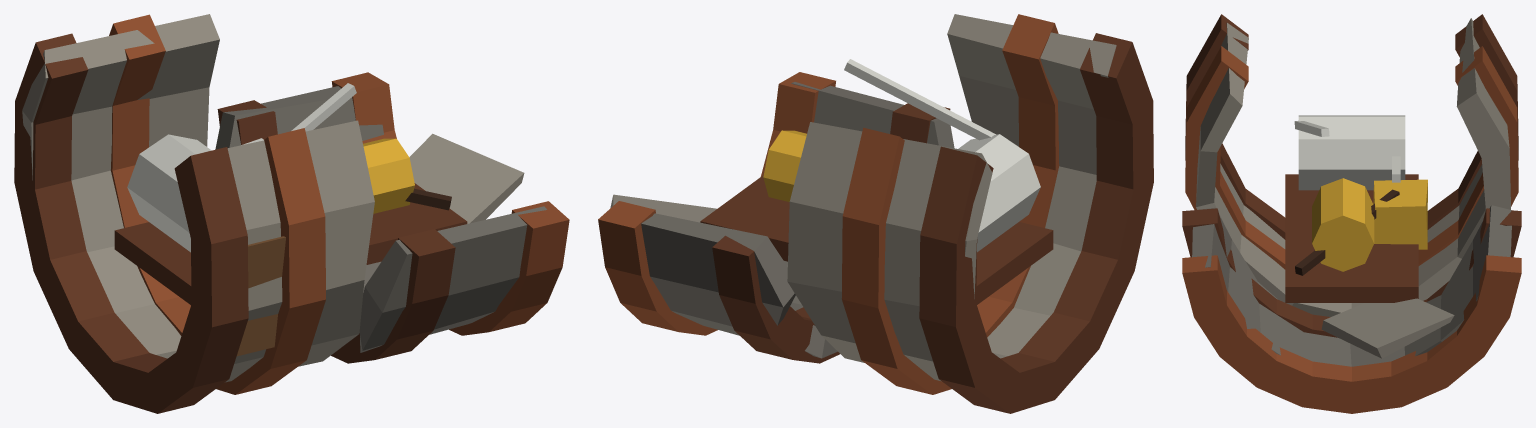
Rendered from engine_section.glb.
The picture shows the model from 3 angles, left to right: view 1: azimuth 30°, elevation 25°; view 2: azimuth 150°, elevation 25°; view 3: azimuth 270°, elevation 25°; orthographic projection. The views are drawn at different scales.
Parts seen in each view (by area): view 1: engine_section; view 2: engine_section; view 3: engine_section.
Part boxes in pixels (x1,y1,x2,y2): engine_section: [14, 14, 569, 413]; engine_section: [598, 14, 1153, 413]; engine_section: [1182, 14, 1521, 413].
Bounding box in the file's own units: 4.7 × 3.15 × 3.83.
